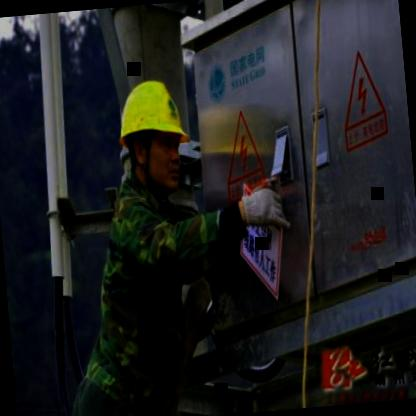helmet: (108, 64, 198, 209)
